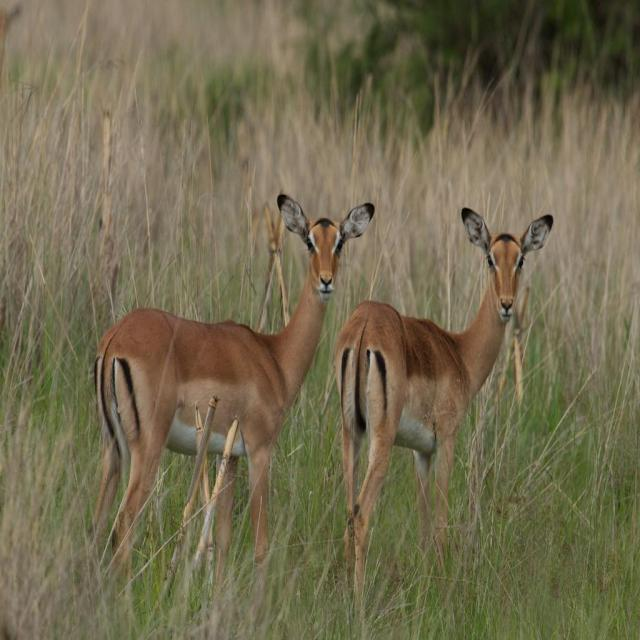Deer: (89, 190, 374, 594), (334, 203, 554, 608)
